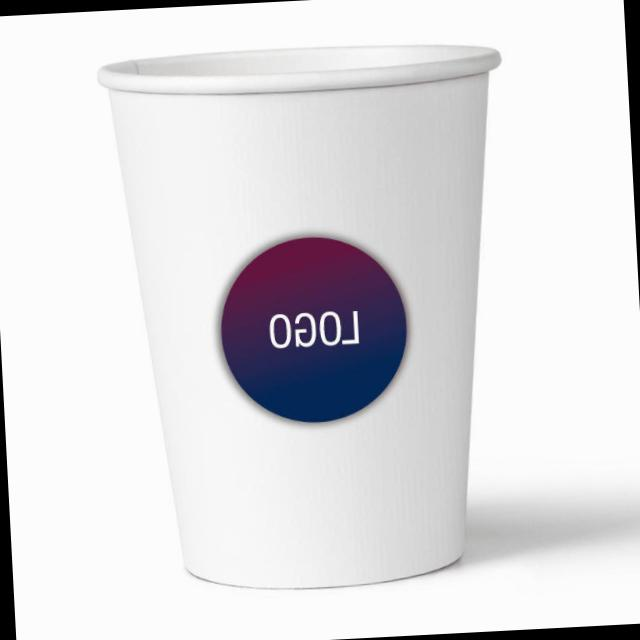trash: (70, 29, 538, 615)
